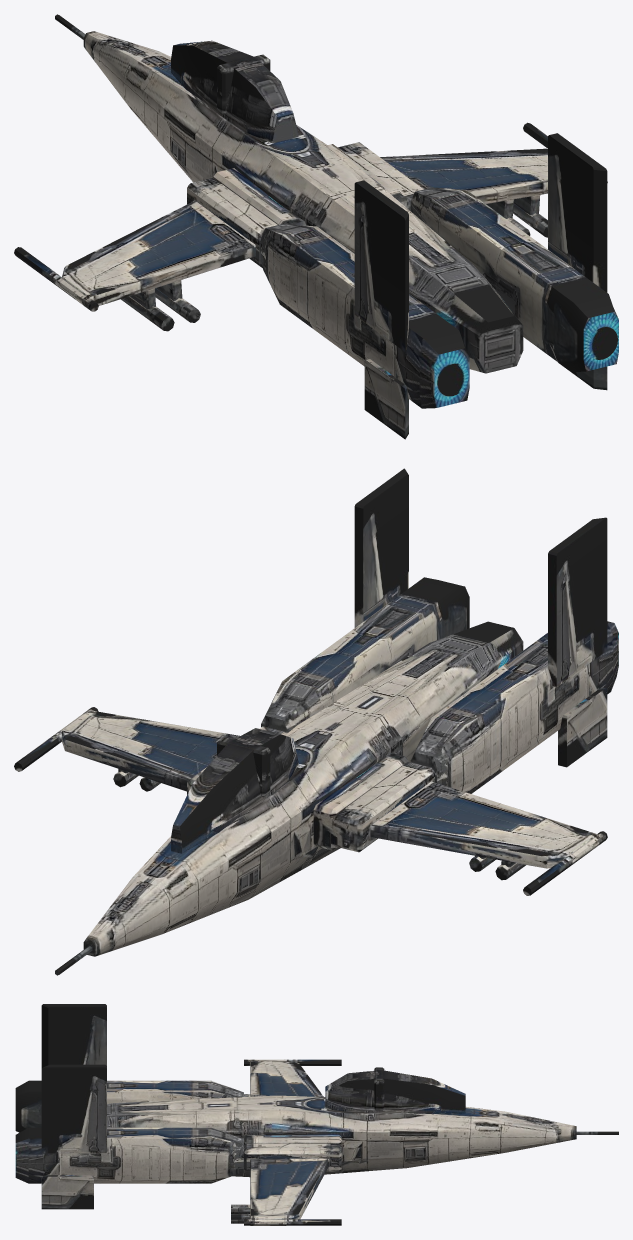
Rendered from interceptor-d.glb.
3 views of the same model, one above another, from view 1: azimuth 30°, elevation 25°; view 2: azimuth 150°, elevation 25°; view 3: azimuth 270°, elevation 25° (orthographic). The views are drawn at different scales.
Parts seen in each view (by area): view 1: hero_interceptor_engines_d, hero_interceptor_hull_d, hero_interceptor_wings_d, hero_interceptor_cockpit_d; view 2: hero_interceptor_engines_d, hero_interceptor_hull_d, hero_interceptor_wings_d, hero_interceptor_cockpit_d; view 3: hero_interceptor_engines_d, hero_interceptor_hull_d, hero_interceptor_wings_d, hero_interceptor_cockpit_d.
Boxes of the visible parts, <box> form: hero_interceptor_engines_d: <box>261,133,618,439</box>; hero_interceptor_hull_d: <box>55,14,523,373</box>; hero_interceptor_wings_d: <box>14,122,607,331</box>; hero_interceptor_cockpit_d: <box>171,40,298,143</box>; hero_interceptor_engines_d: <box>261,468,618,793</box>; hero_interceptor_hull_d: <box>55,621,523,975</box>; hero_interceptor_wings_d: <box>14,707,607,895</box>; hero_interceptor_cockpit_d: <box>171,728,298,853</box>; hero_interceptor_engines_d: <box>15,1004,243,1209</box>; hero_interceptor_hull_d: <box>107,1095,618,1177</box>; hero_interceptor_wings_d: <box>231,1059,341,1225</box>; hero_interceptor_cockpit_d: <box>325,1067,465,1114</box>.
Size of the model in its own units: 1.18 by 0.48 by 1.85.
Materials: 1 (1 with a texture image).
